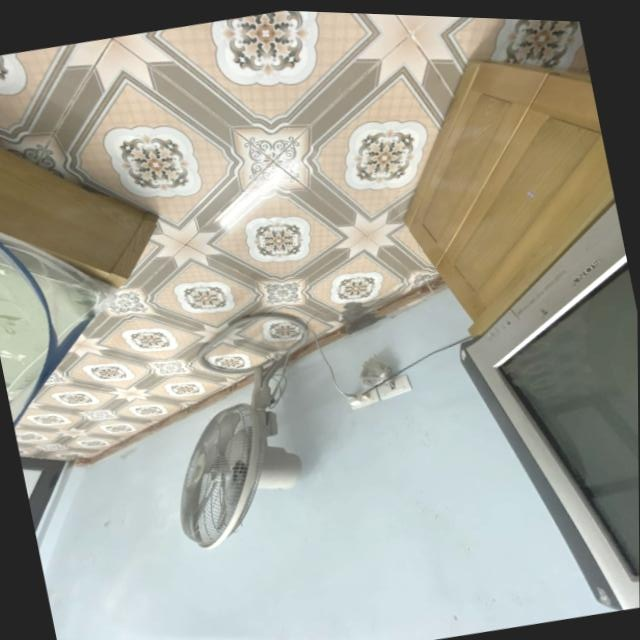outlet: (374, 373, 414, 402), (345, 386, 379, 413)
